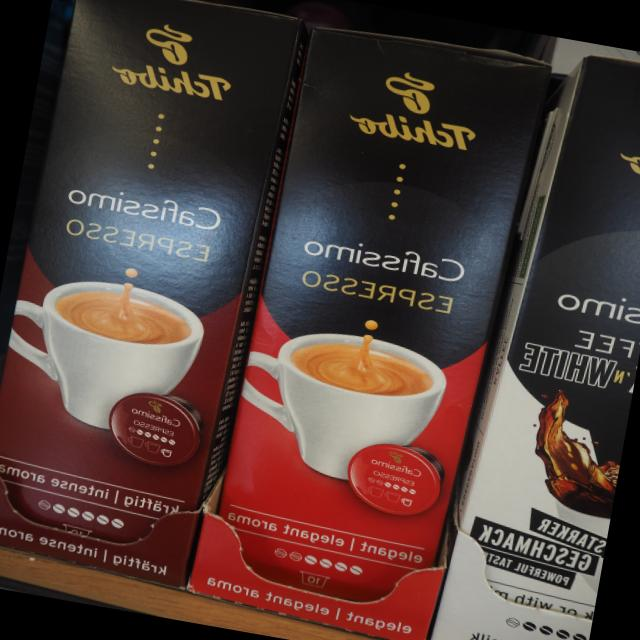Simo Es Elegant: (183, 19, 566, 640)
Simo Kaffee BW: (432, 55, 640, 640)
